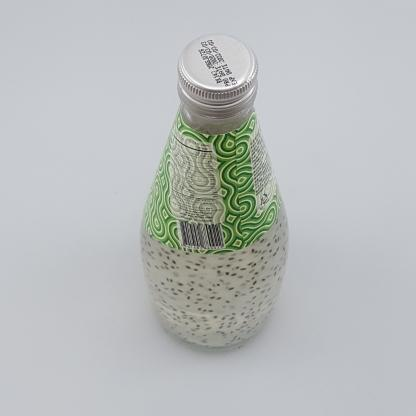------------------------: (140, 33, 289, 352)
